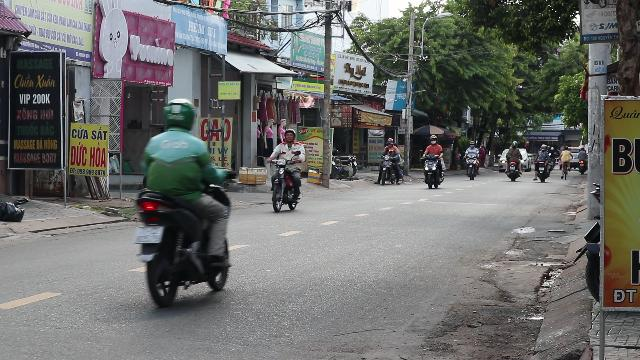helmet: (160, 97, 198, 131), (284, 128, 296, 142)
licenseplate: (134, 226, 162, 242)
motorcyclist: (130, 96, 234, 308), (264, 127, 306, 212)
